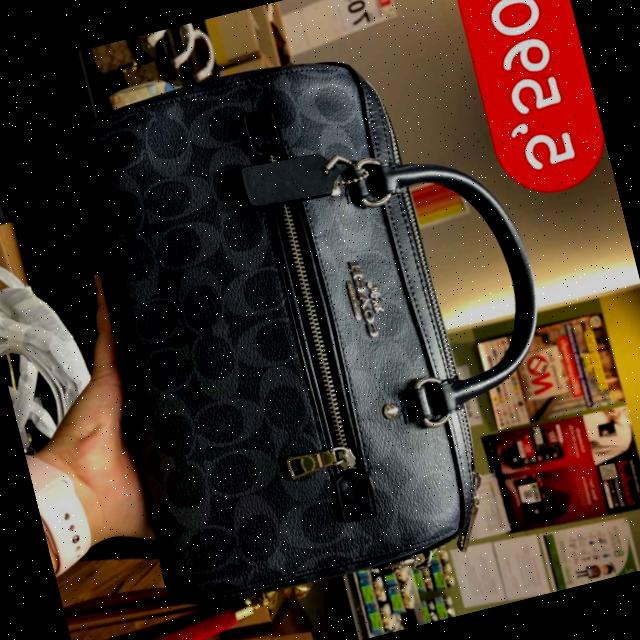Handbag: (24, 29, 509, 640)
